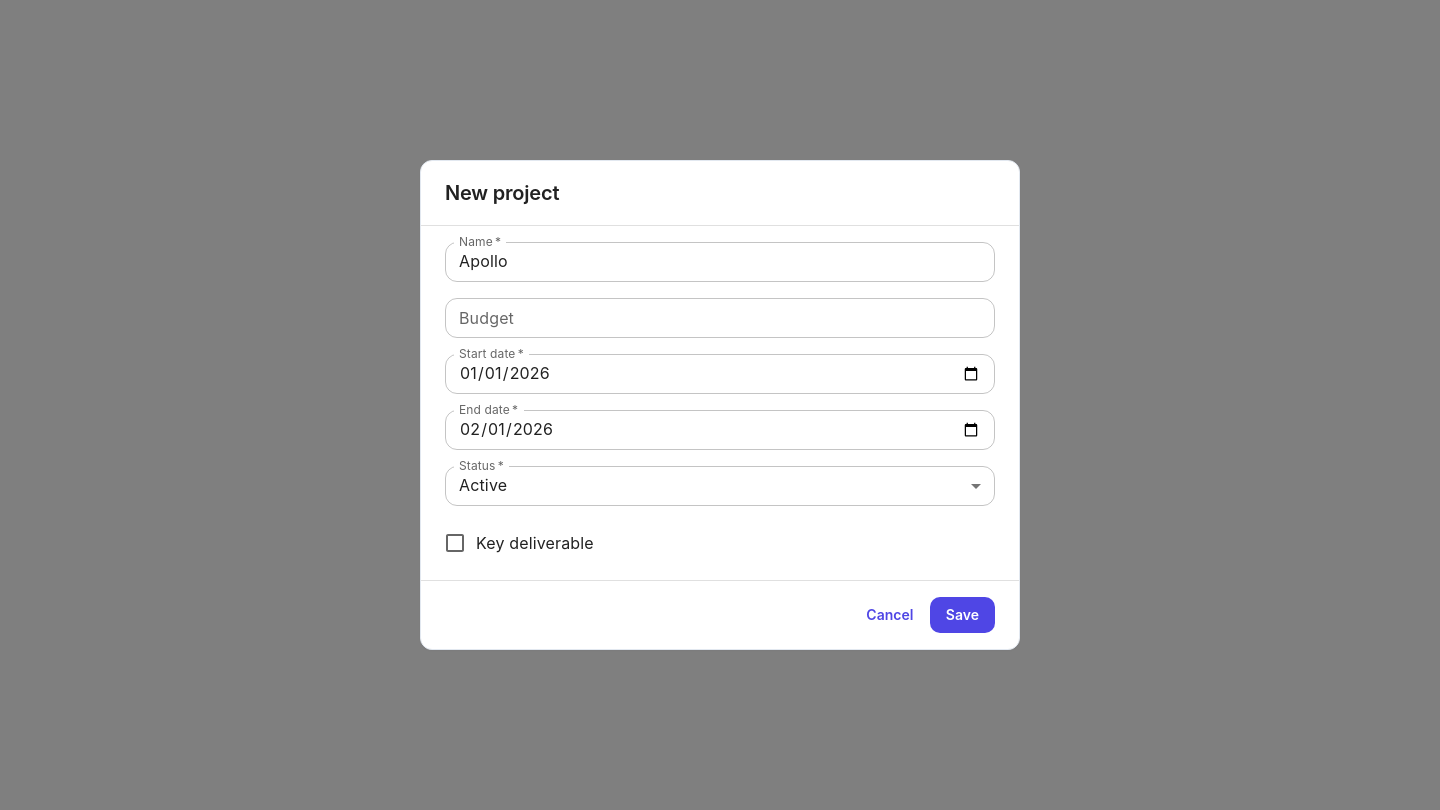
Test: FormDialog › shows server-side field errors and keeps the dialog usable
Click the button "Save" at (962, 615), box [930,597,995,633]
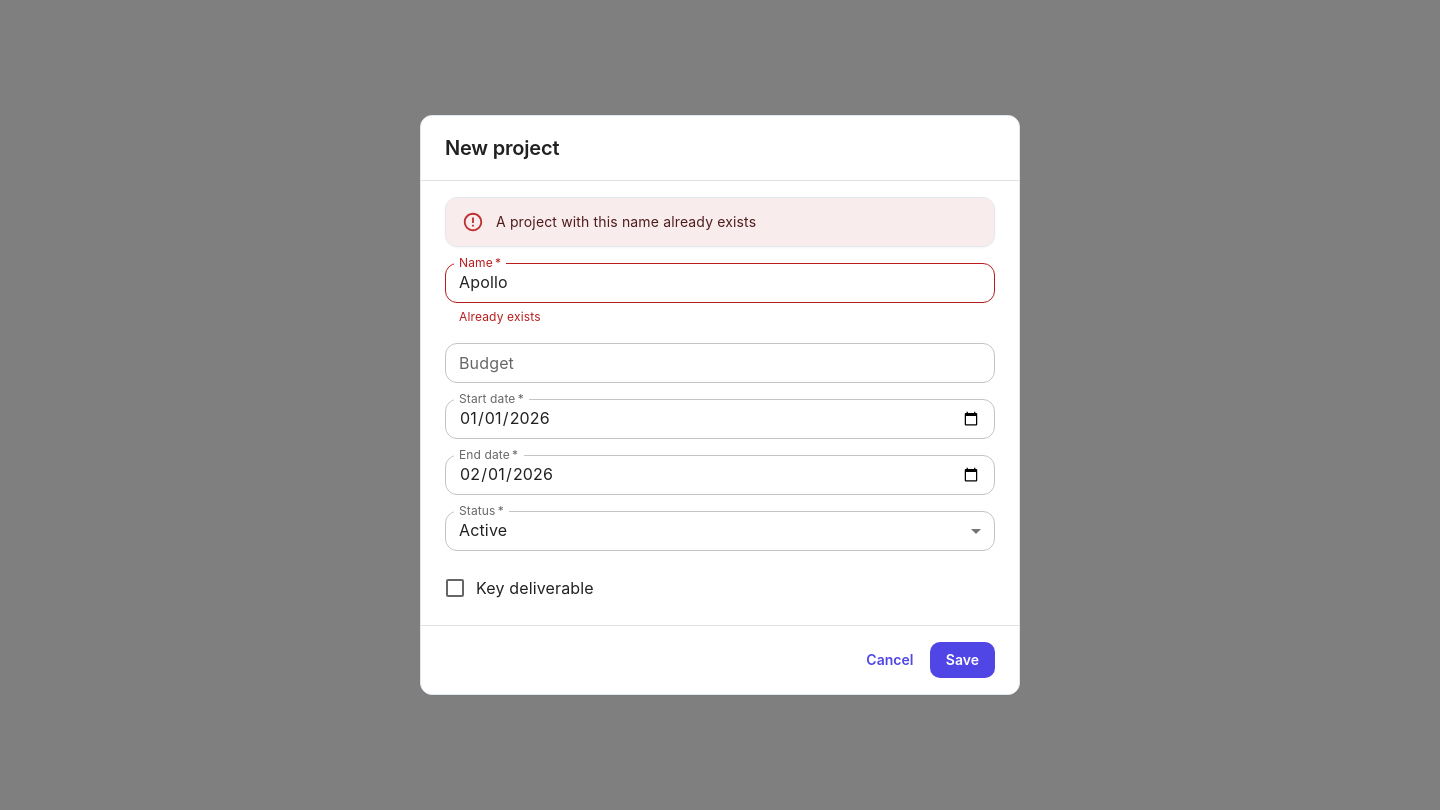
Expected: the button "Save" is enabled, [930,642,995,678]
Expected: the text "A project with this name already exists" is shown, [496,213,756,230]
Expected: the text "Already exists" is shown, [459,309,541,324]
